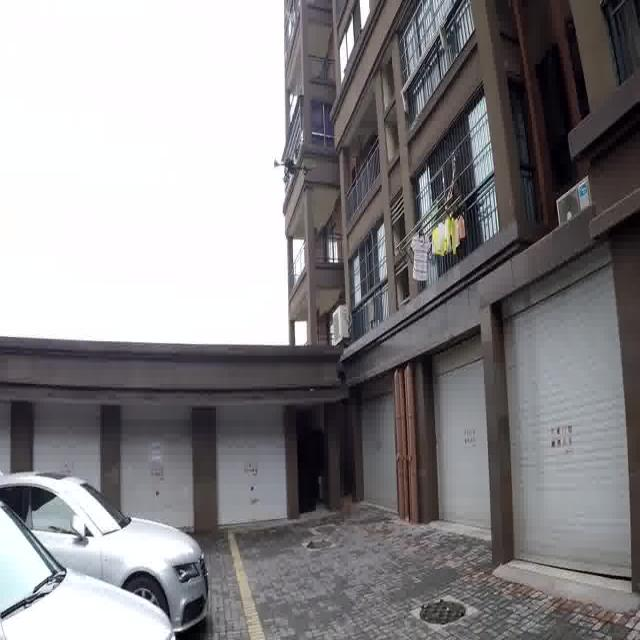drone: (268, 146, 314, 190)
